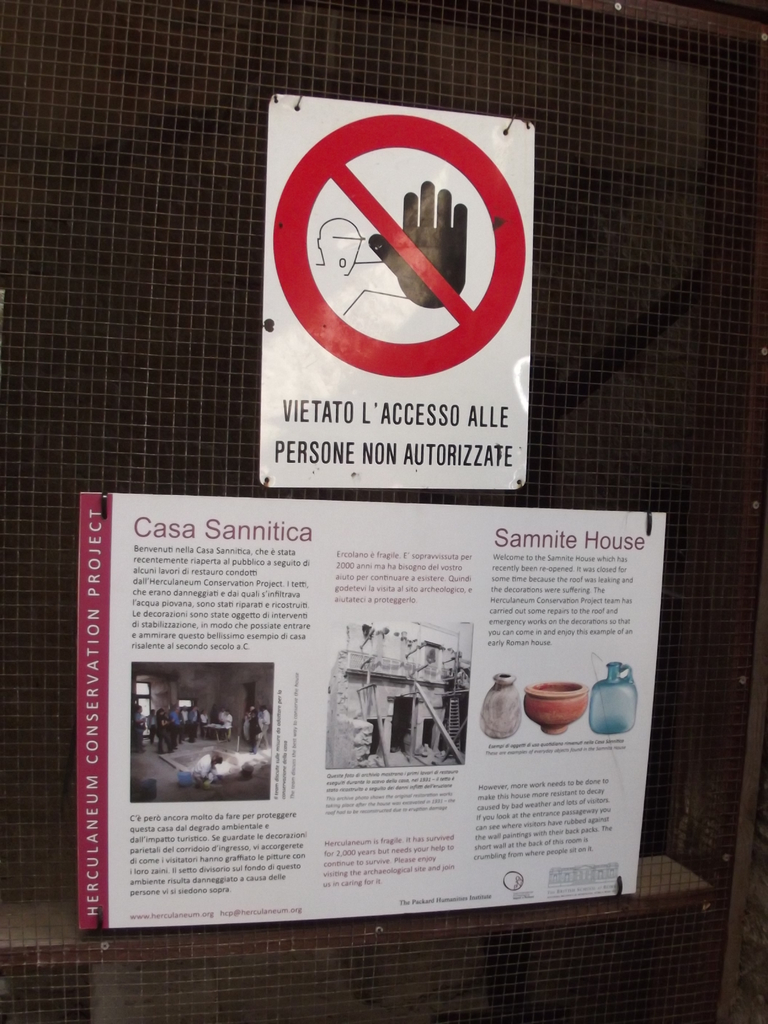Human_hand: (369, 181, 465, 310)
